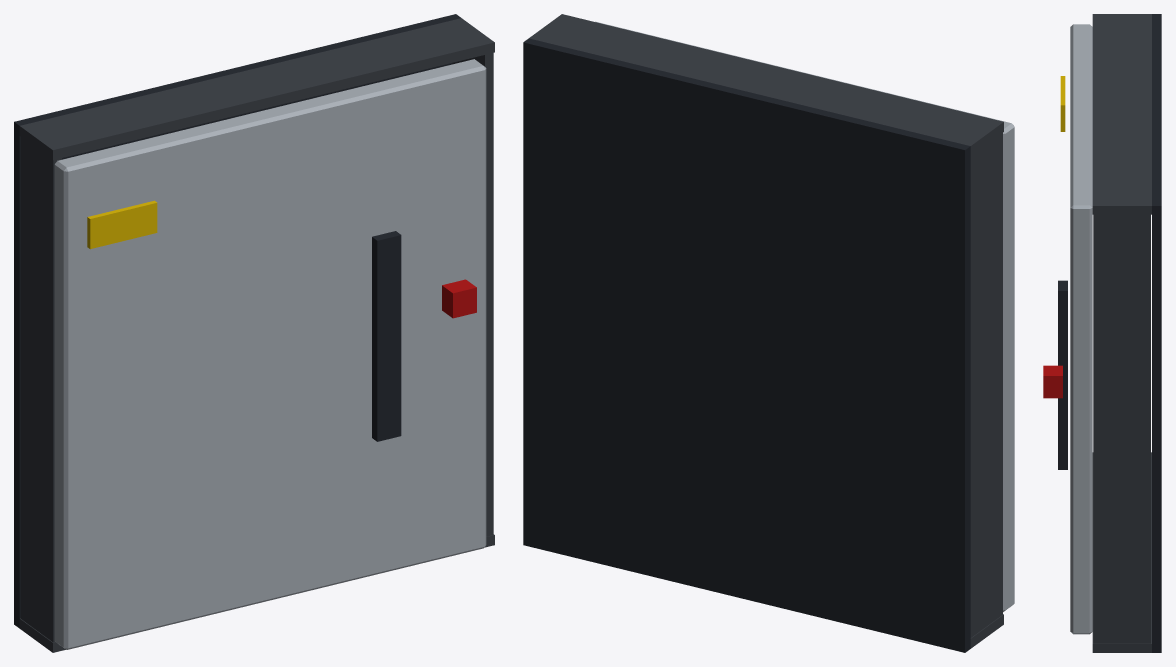
Rendered from breaker_panel.glb.
3 renders of one model, left to right at view 1: azimuth 30°, elevation 25°; view 2: azimuth 150°, elevation 25°; view 3: azimuth 270°, elevation 25°, orthographic. The views are drawn at different scales.
Visible parts, largest first — view 1: door, breaker_panel; view 2: breaker_panel, door; view 3: breaker_panel, door.
Boxes of the visible parts, bbox=[...] form: door: bbox=[54, 59, 486, 649]; breaker_panel: bbox=[14, 14, 494, 652]; breaker_panel: bbox=[523, 14, 1003, 652]; door: bbox=[595, 21, 1014, 611]; breaker_panel: bbox=[1092, 14, 1161, 652]; door: bbox=[1043, 24, 1092, 634].
Bounding box in the file's own units: 0.92 × 1 × 0.24.
